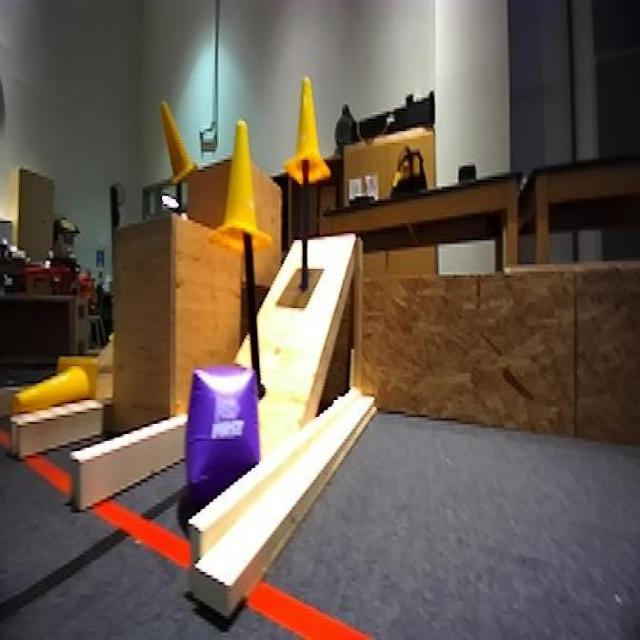frc_cone: (216, 128, 270, 250), (12, 354, 100, 424), (284, 76, 330, 186), (162, 95, 194, 189)
frc_cube: (179, 359, 261, 509)
